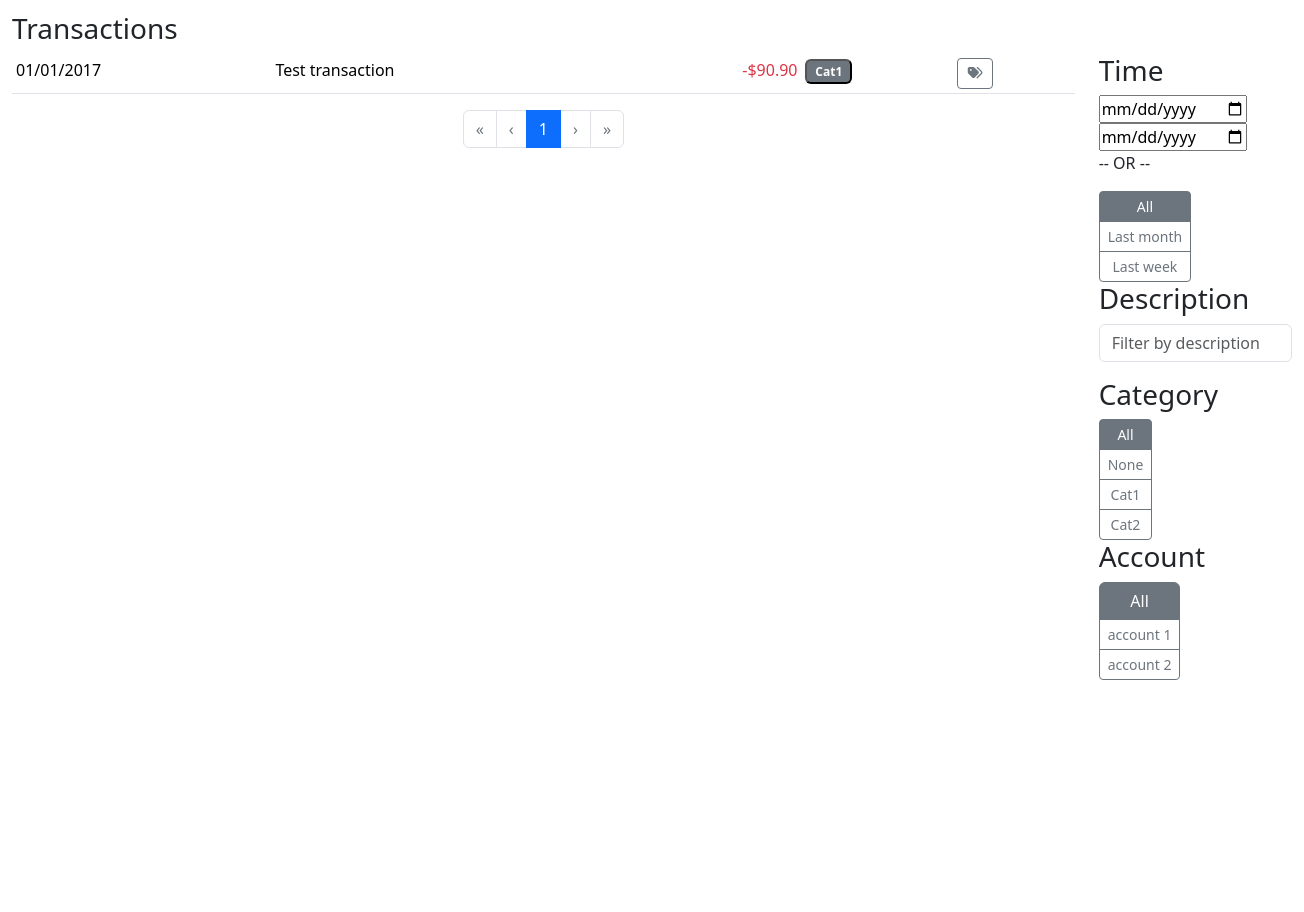
it: should update category when new category is selected
Step 1. Click the button "Cat1" in the row of "01/01/2017" → x=829, y=72, box x1=806 y1=59 x2=852 y2=84
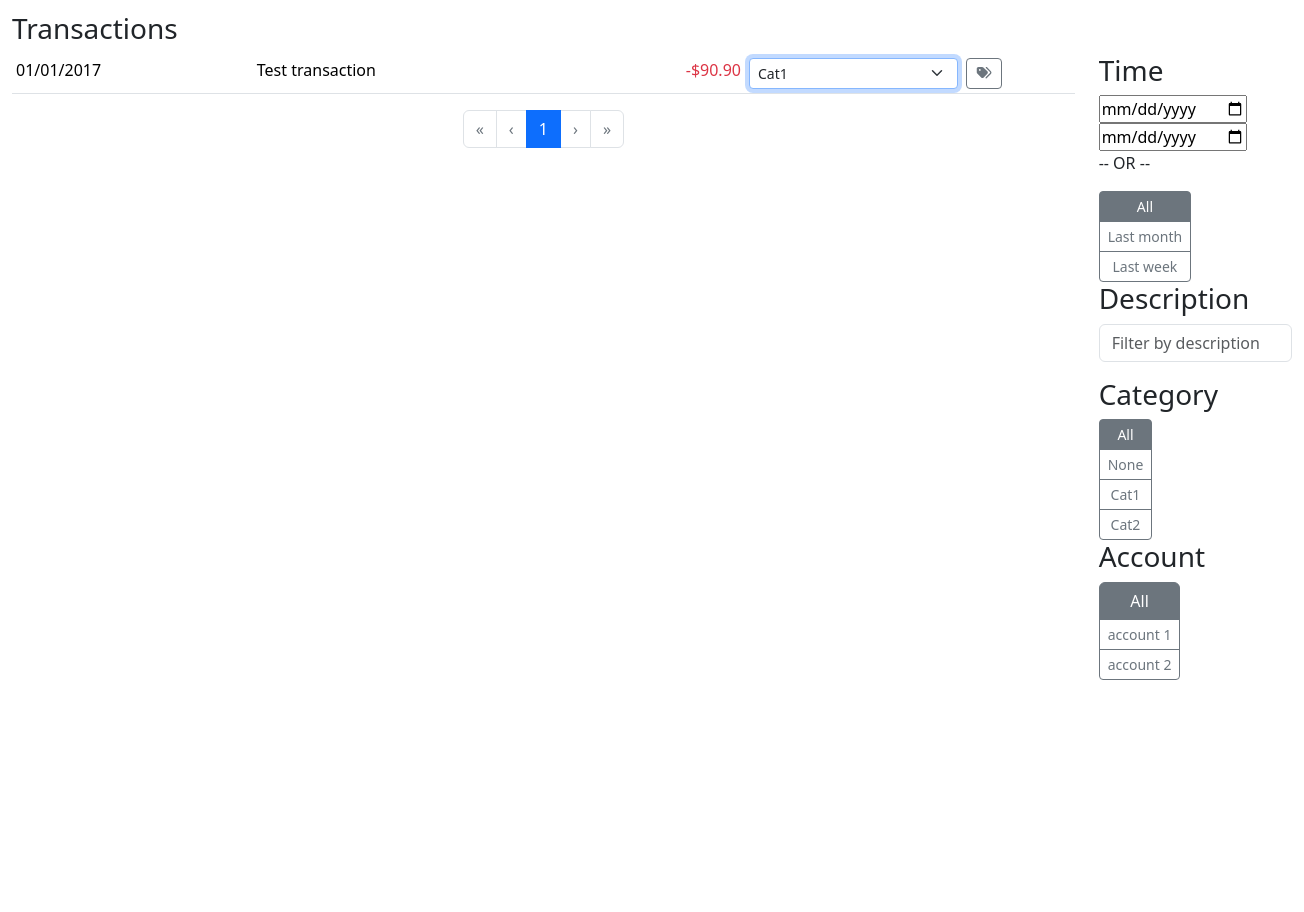
Step 2. Select "Cat2" in the dropdown → x=854, y=73, box x1=749 y1=58 x2=958 y2=89
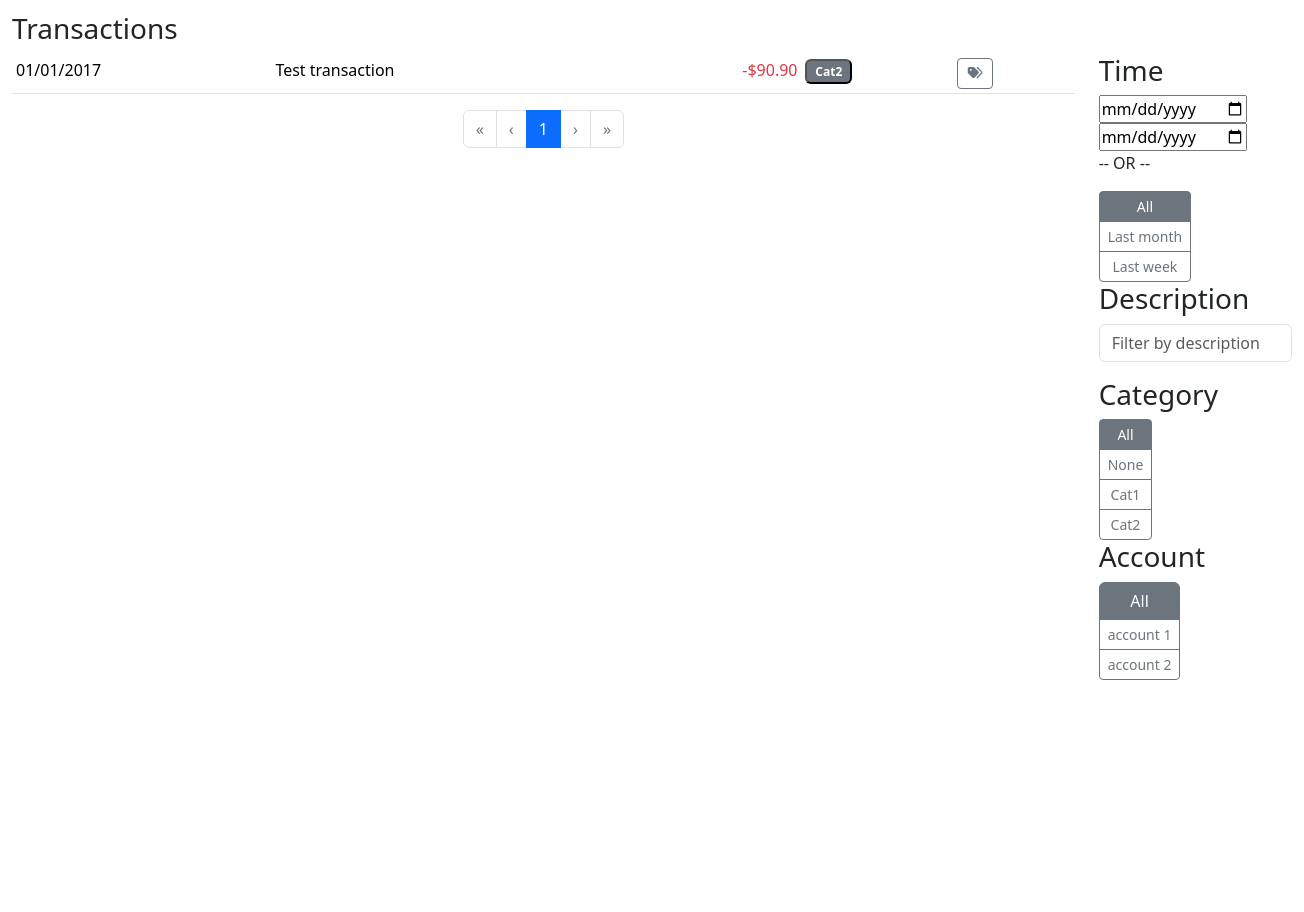
Result: the dropdown is gone
Result: the button "Cat2" in the row of "01/01/2017" is shown at x1=806 y1=59 x2=852 y2=84
